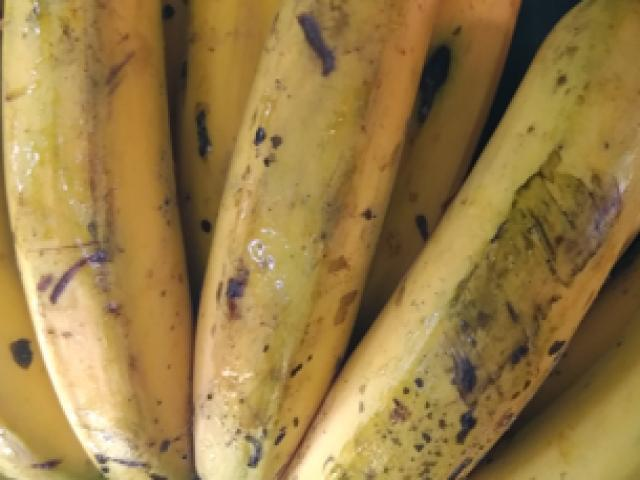ripe: (322, 9, 629, 476), (185, 0, 440, 468), (0, 0, 237, 471)
